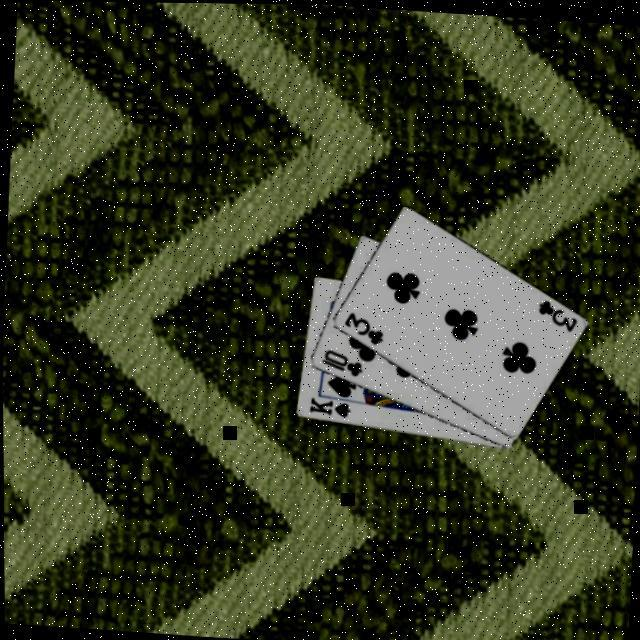10C: (317, 344, 366, 378)
3C: (340, 306, 388, 346), (534, 294, 582, 333)
KS: (306, 393, 354, 419)
